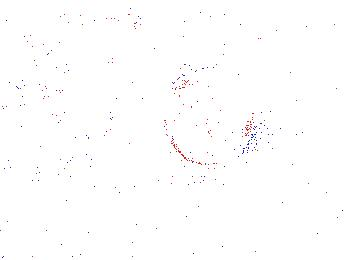moon jellyfish: (163, 71, 256, 166), (42, 12, 136, 62), (1, 35, 48, 116)
